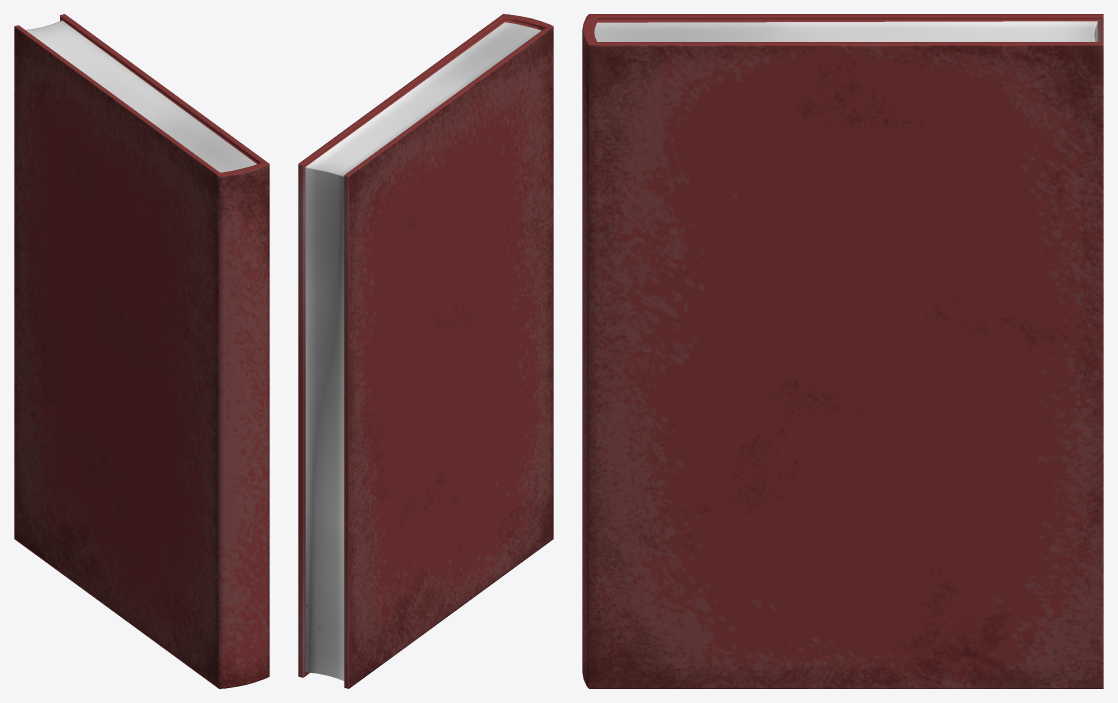
File: book.fbx
3 renders of one model, left to right at view 1: azimuth 30°, elevation 25°; view 2: azimuth 150°, elevation 25°; view 3: azimuth 270°, elevation 25°, orthographic. The views are drawn at different scales.
Visible parts, largest first — view 1: book; view 2: book; view 3: book.
Part boxes in pixels (<box>): book: <box>14,14,269,688</box>; book: <box>298,14,553,688</box>; book: <box>582,14,1103,688</box>.
Bounding box in the file's own units: 3 × 29 × 21.27.
